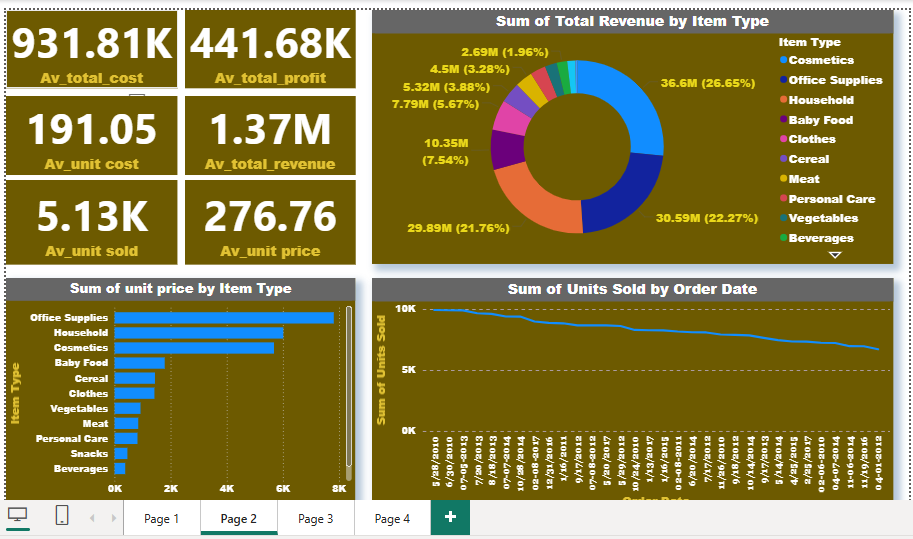

Layout of this report page (visuals, bound fields, positions):
{"tool":"powerbi","page":{"name":"Page 2","canvas":[1280,720],"ordinal":1},"visuals":[{"type":"card","fields":{"Values":["Amazon Sales data.Average_tot_cost"]},"box":[0,0,243.4,110.9],"z":0},{"type":"card","fields":{"Values":["Amazon Sales data.Av_total_profit"]},"box":[253.4,0,241.9,110.9],"z":1000},{"type":"card","fields":{"Values":["Amazon Sales data.Av_total_revenue"]},"box":[253.4,122.4,241.9,112.3],"z":2000},{"type":"card","fields":{"Values":["Amazon Sales data.Av_unit sold"]},"box":[0,240.5,243.4,119.5],"z":3000},{"type":"card","fields":{"Values":["Amazon Sales data.Av_unit price"]},"box":[253.4,240.5,241.9,119.5],"z":4000},{"type":"card","fields":{"Values":["Amazon Sales data.Av_unit cost"]},"box":[0,122.4,243.4,112.3],"z":5000},{"type":"donutChart","fields":{"Category":["Amazon Sales data.Item Type"],"Y":["Sum(Amazon Sales data.Total Revenue)"]},"box":[518.4,0,738.7,360],"z":6000},{"type":"lineChart","fields":{"Category":["Amazon Sales data.Order Date"],"Y":["Sum(Amazon Sales data.Units Sold)"]},"box":[518.4,380.2,738.7,339.8],"z":7000},{"type":"clusteredBarChart","fields":{"Category":["Amazon Sales data.Item Type"],"Y":["Amazon Sales data.Sum of unit price"]},"box":[0,380.2,495.4,339.8],"z":8000}]}

Visuals, with their boxes on the page's 1280x720 design canvas (x1, y1, x2, y2). These are canvas units, not pixel positions in the 913x539 screenshot, which may show the page scaled, cropped or inside an application window:
card - Amazon Sales data.Average_tot_cost: BBox(0, 0, 243, 111)
card - Amazon Sales data.Av_total_profit: BBox(253, 0, 495, 111)
card - Amazon Sales data.Av_total_revenue: BBox(253, 122, 495, 235)
card - Amazon Sales data.Av_unit sold: BBox(0, 240, 243, 360)
card - Amazon Sales data.Av_unit price: BBox(253, 240, 495, 360)
card - Amazon Sales data.Av_unit cost: BBox(0, 122, 243, 235)
donutChart - Amazon Sales data.Item Type x Sum(Amazon Sales data.Total Revenue): BBox(518, 0, 1257, 360)
lineChart - Amazon Sales data.Order Date x Sum(Amazon Sales data.Units Sold): BBox(518, 380, 1257, 720)
clusteredBarChart - Amazon Sales data.Item Type x Amazon Sales data.Sum of unit price: BBox(0, 380, 495, 720)
